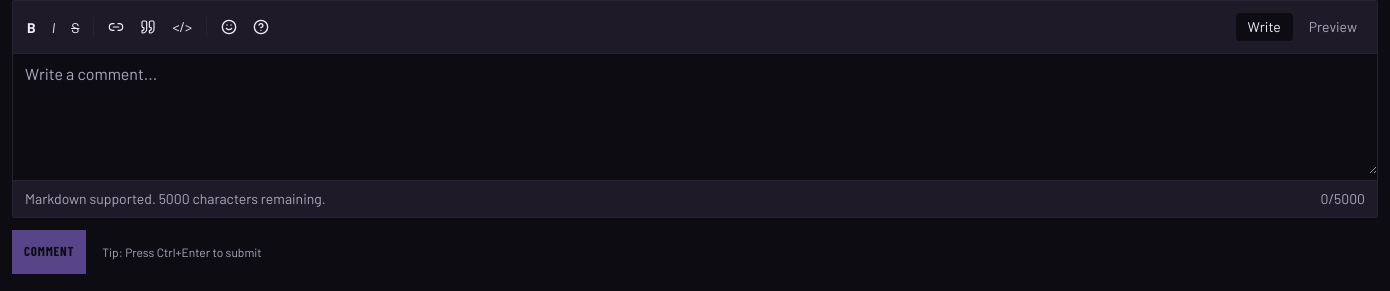
CommentForm › Submit button state › should enable submit button when textarea has content
This screenshot has width=1390, height=291.
Type "Test comment" into the text box named "Comment content" at (695, 114), box left=13, top=54, right=1377, bottom=174
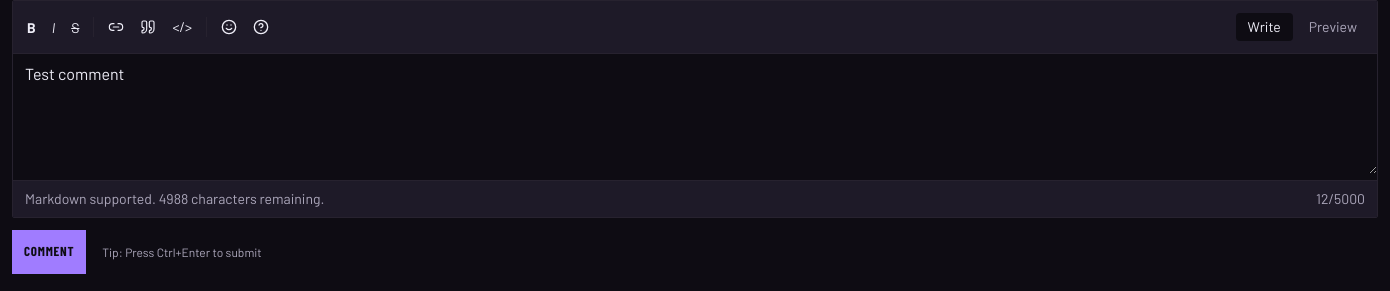
Check: the button "Comment" is enabled, box left=12, top=230, right=86, bottom=274
